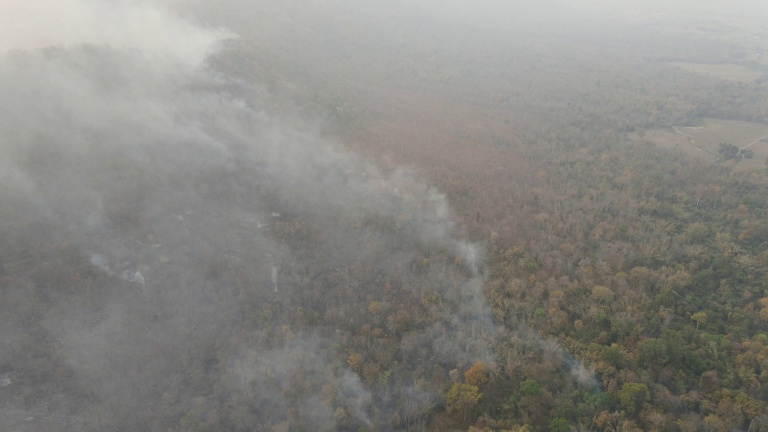smoke: (1, 1, 506, 427), (519, 329, 613, 398)
